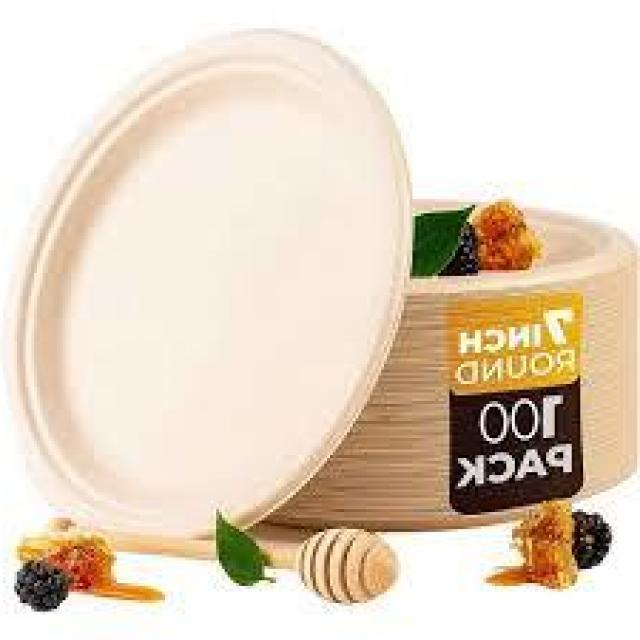plate: (0, 14, 442, 544)
